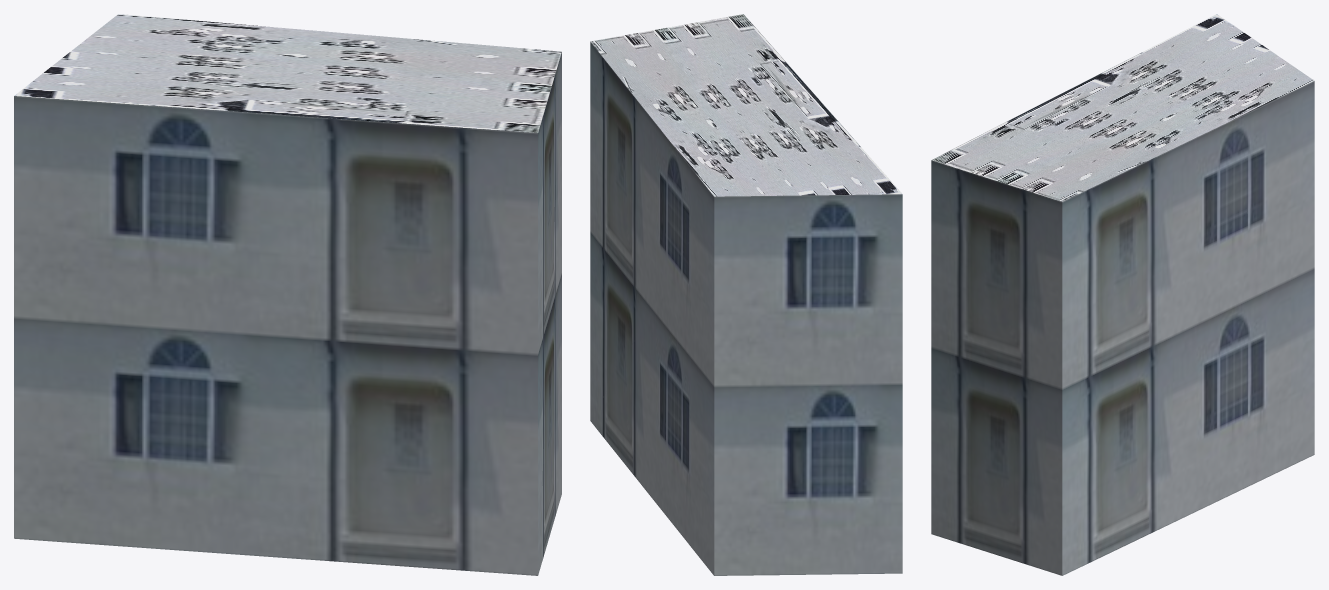
The model's file is ResTex__4960.fbx.
3 renders of one model, left to right at view 1: azimuth 30°, elevation 25°; view 2: azimuth 150°, elevation 25°; view 3: azimuth 270°, elevation 25°, orthographic. The views are drawn at different scales.
Visible parts, largest first — view 1: CityEngineMaterial_17_m, CityEngineMaterial_4_m; view 2: CityEngineMaterial_17_m, CityEngineMaterial_4_m; view 3: CityEngineMaterial_17_m, CityEngineMaterial_4_m.
Part boxes in pixels (left/top/right/bottom): CityEngineMaterial_17_m: left=14, top=52, right=561, bottom=575; CityEngineMaterial_4_m: left=14, top=14, right=561, bottom=132; CityEngineMaterial_17_m: left=590, top=42, right=902, bottom=575; CityEngineMaterial_4_m: left=590, top=14, right=902, bottom=196; CityEngineMaterial_17_m: left=931, top=81, right=1314, bottom=575; CityEngineMaterial_4_m: left=931, top=14, right=1314, bottom=201.
Size of the model in its own units: 6.47 by 6 by 5.58.
2 materials, 2 textured.
